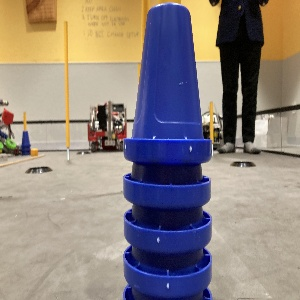Blue_3: (19, 131, 30, 154)
Blue_5: (122, 2, 212, 299)
